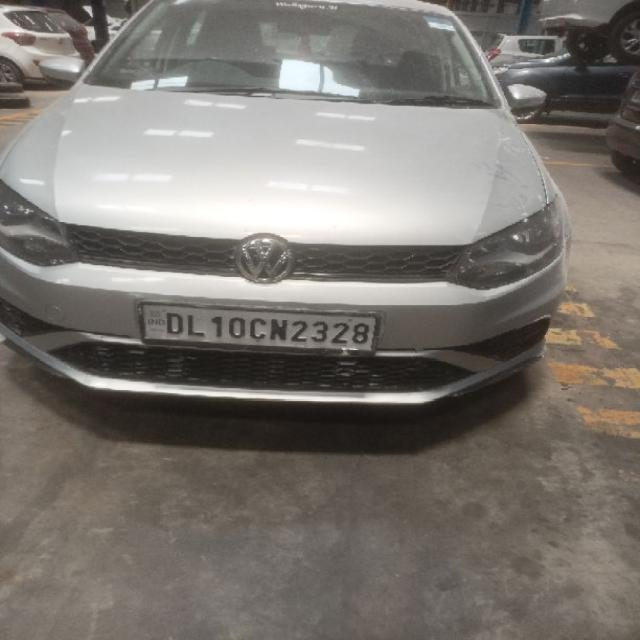license_plate: (136, 299, 383, 357)
